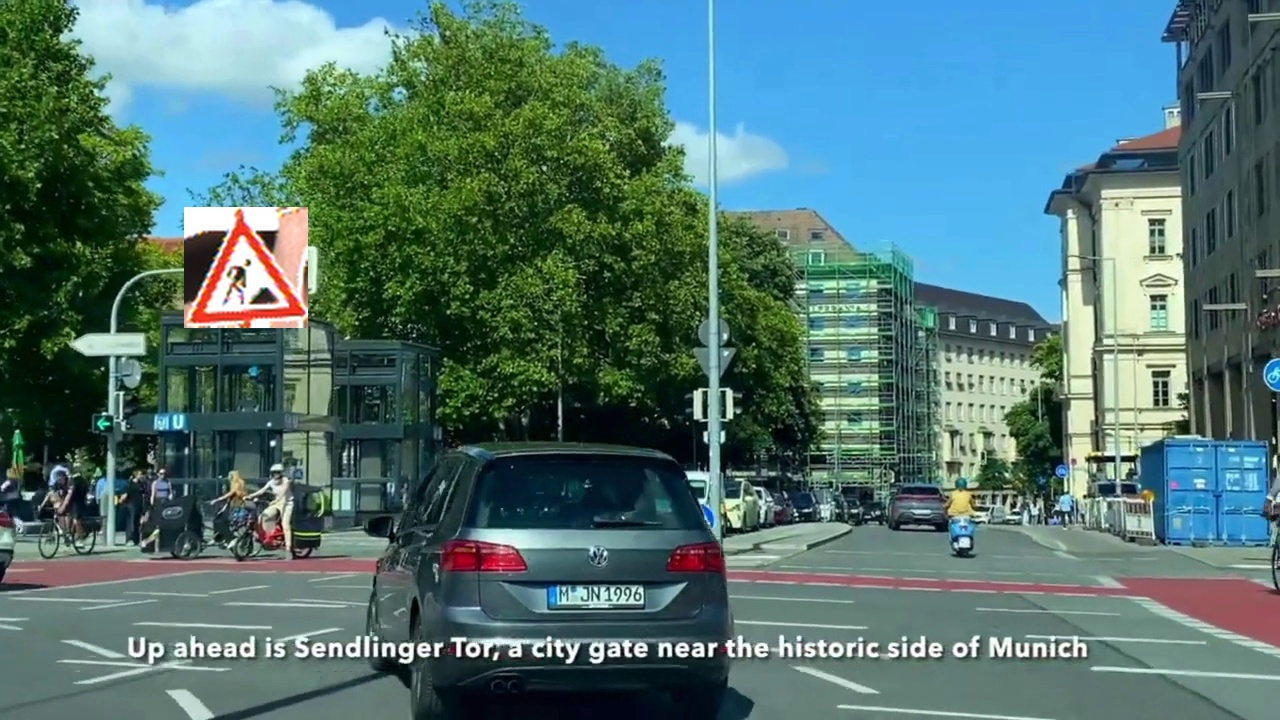Road work: (184, 207, 308, 328)
